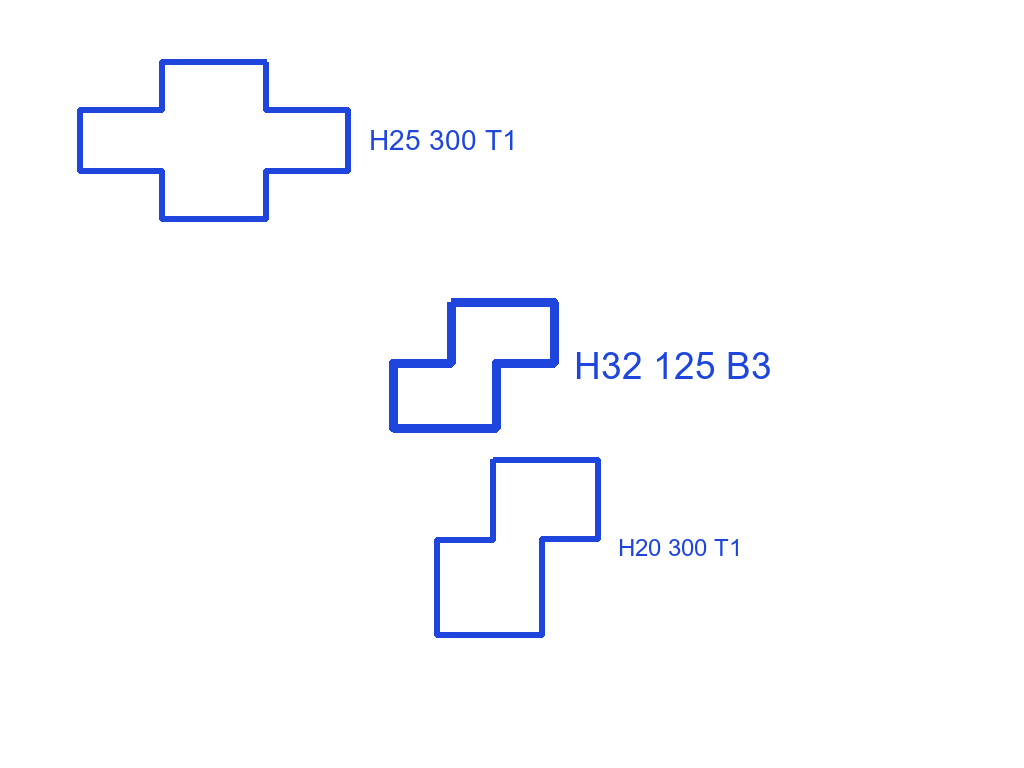shape: (75, 58, 354, 223), (432, 455, 603, 641), (387, 296, 561, 435)
text: (572, 350, 774, 381), (367, 128, 520, 152), (616, 537, 744, 558)
